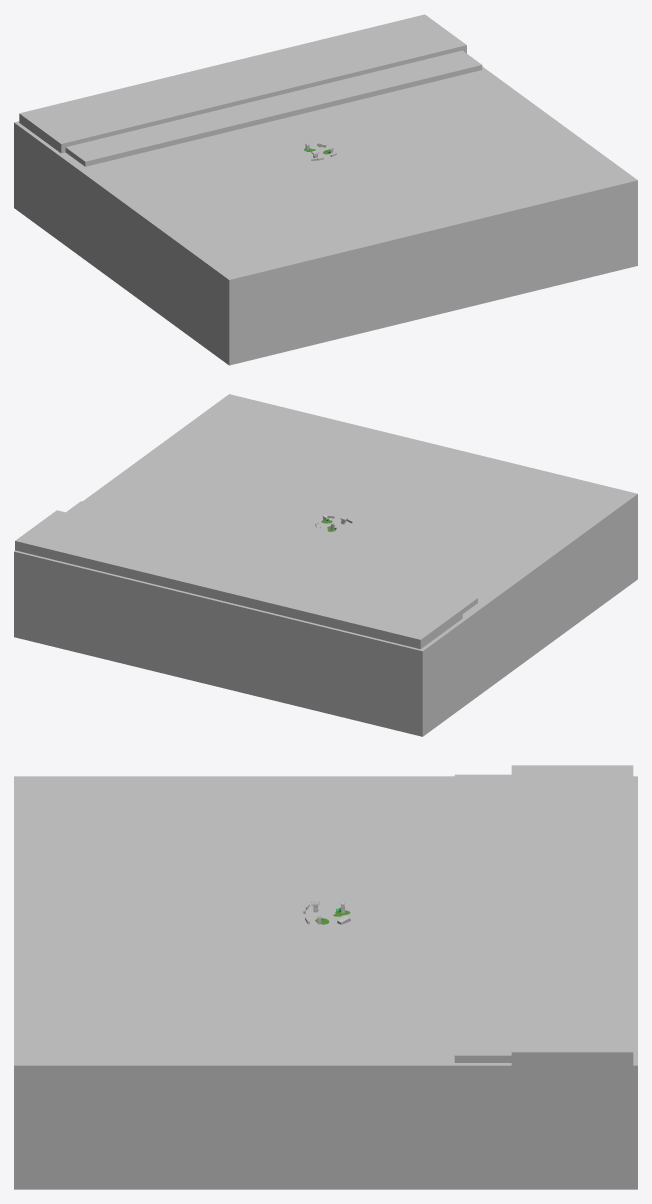
The model's file is stage2.FBX.
3 renders of one model, top to bottom at view 1: azimuth 30°, elevation 25°; view 2: azimuth 150°, elevation 25°; view 3: azimuth 270°, elevation 25°, orthographic. The views are drawn at different scales.
Parts seen in each view (by area): view 1: Box024, Box032; view 2: Box024, Box032; view 3: Box024, Box032.
Part boxes in pixels (x1,y1,x2,y2): Box024: [14, 66, 637, 365]; Box032: [19, 14, 482, 166]; Box024: [14, 394, 637, 736]; Box032: [15, 501, 477, 649]; Box024: [14, 776, 637, 1189]; Box032: [454, 765, 633, 1069].
Bounding box in the file's own units: 2342 × 2133 × 519.
